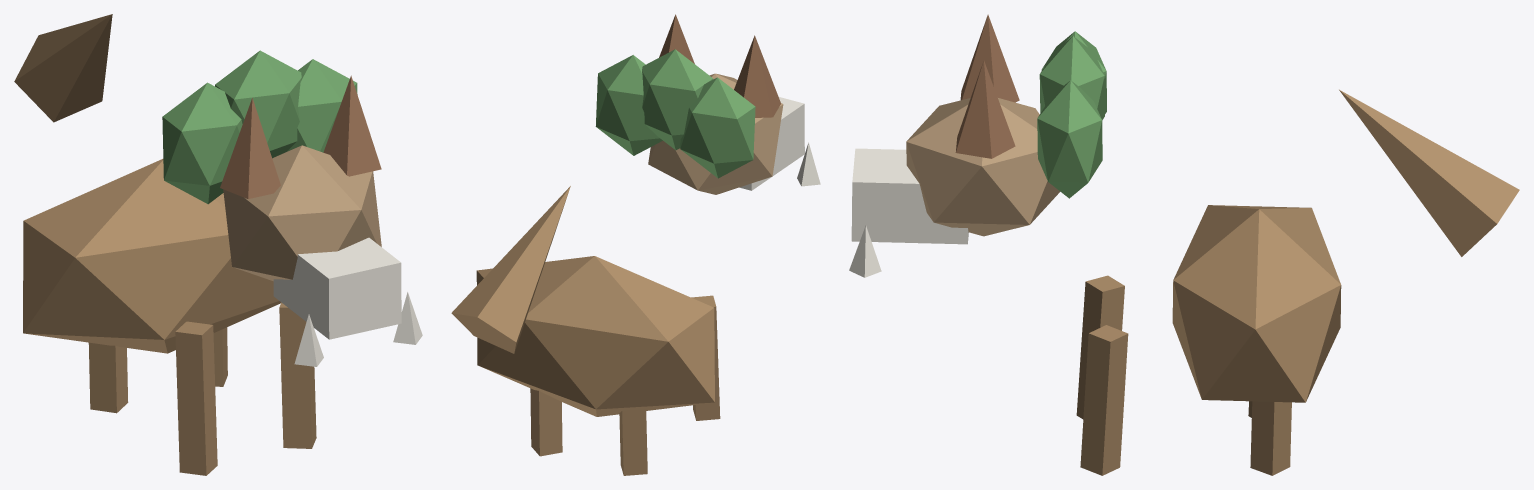
Rendered from npcpose_wolf_idle_09.glb.
3 renders of one model, left to right at view 1: azimuth 30°, elevation 25°; view 2: azimuth 150°, elevation 25°; view 3: azimuth 270°, elevation 25°, orthographic. The views are drawn at different scales.
Parts seen in each view (by area): view 1: npcpose; view 2: npcpose; view 3: npcpose.
Boxes of the visible parts, x1,y1,x2,y2 form: npcpose: (14, 14, 422, 475); npcpose: (451, 14, 820, 475); npcpose: (849, 14, 1519, 475).
Size of the model in its own units: 0.8873 by 1.24 by 1.85.
